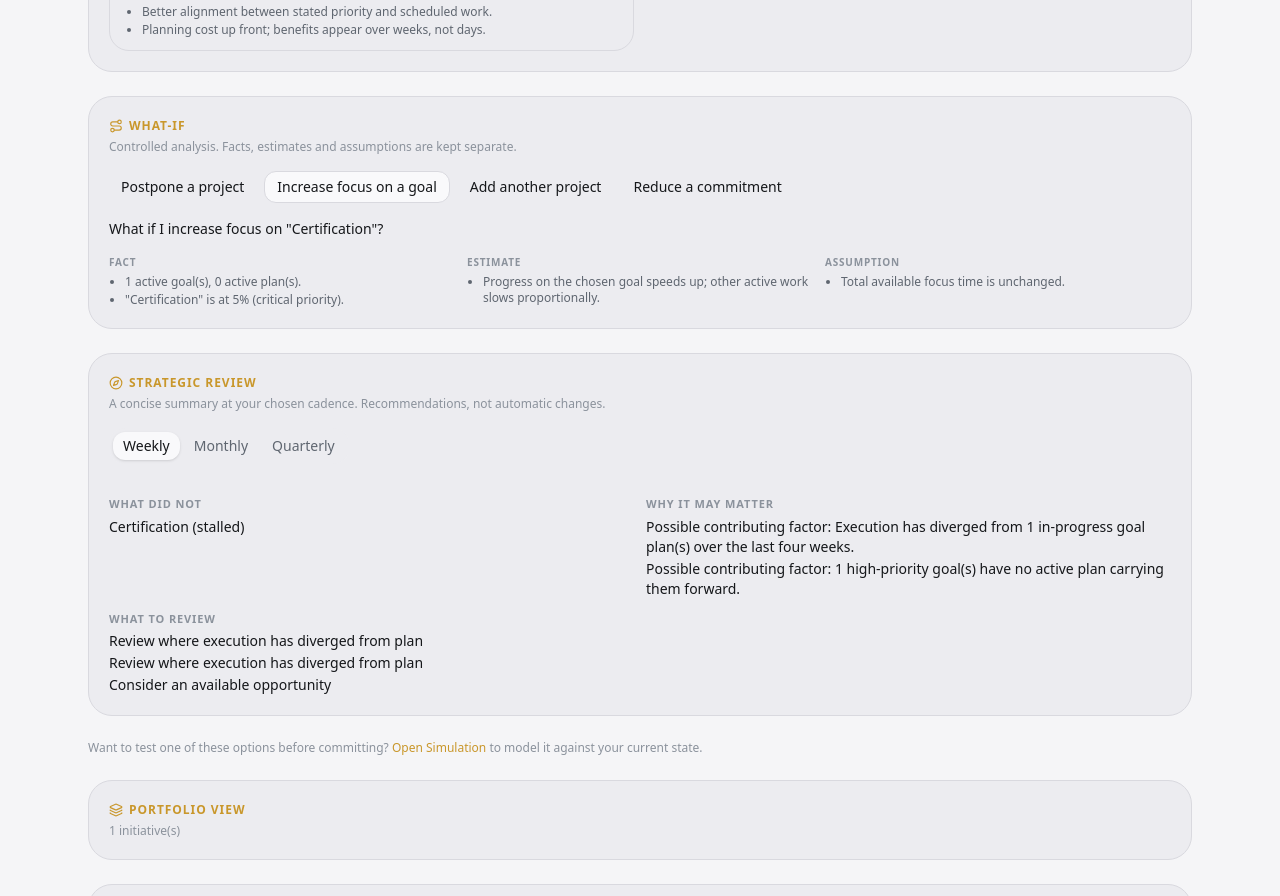
Test: StrategyView › switches the strategic review cadence
The width and height of the screenshot is (1280, 896).
(page scrolled)
Expected: the heading "Strategic review" is shown, x1=109 y1=374 x2=256 y2=391
Click the radio button labelled "Quarterly" at (303, 446), box x1=262 y1=432 x2=345 y2=460
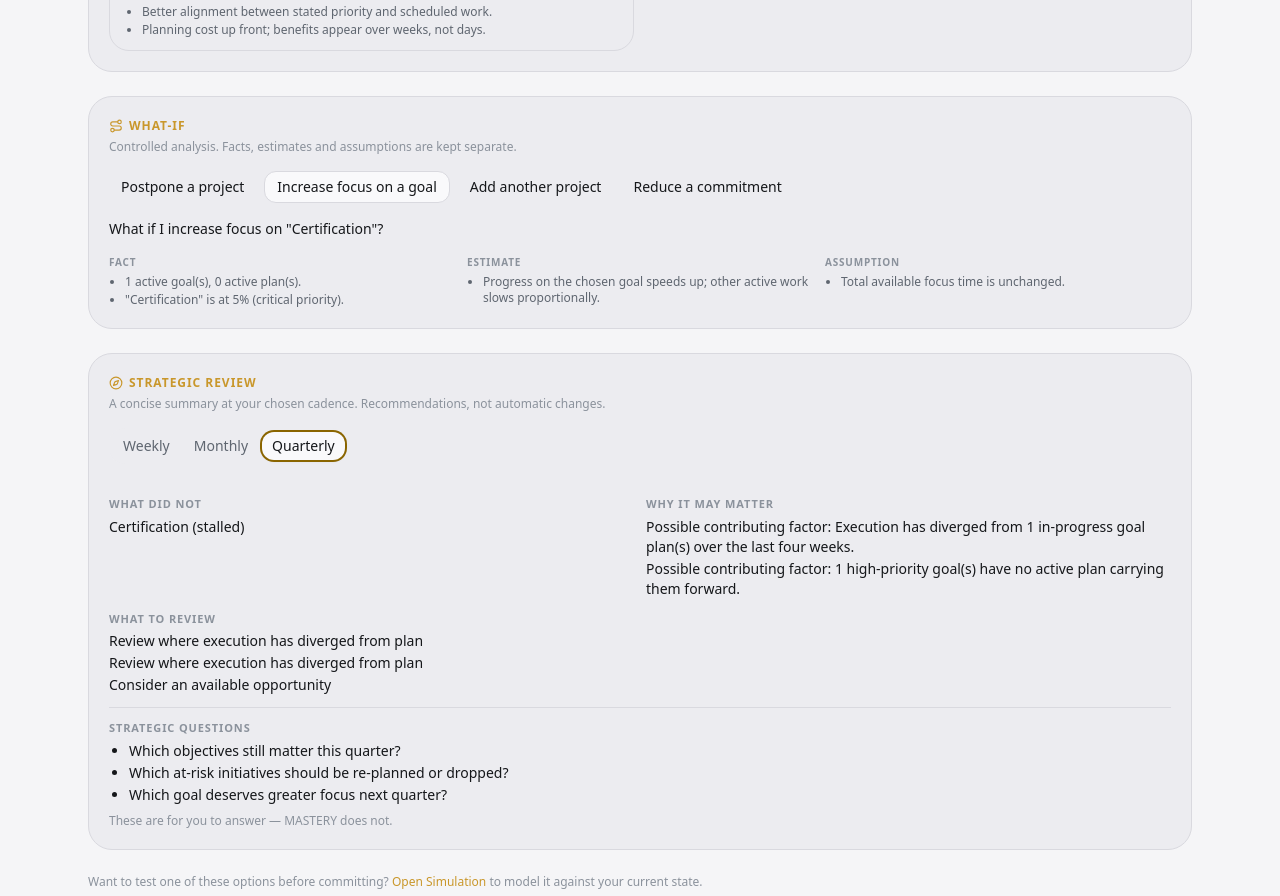
Expected: the text "Strategic questions" is shown, x1=109 y1=720 x2=251 y2=735
Expected: the list item "Which objectives still matter this quarter?" is shown, x1=129 y1=740 x2=401 y2=760
